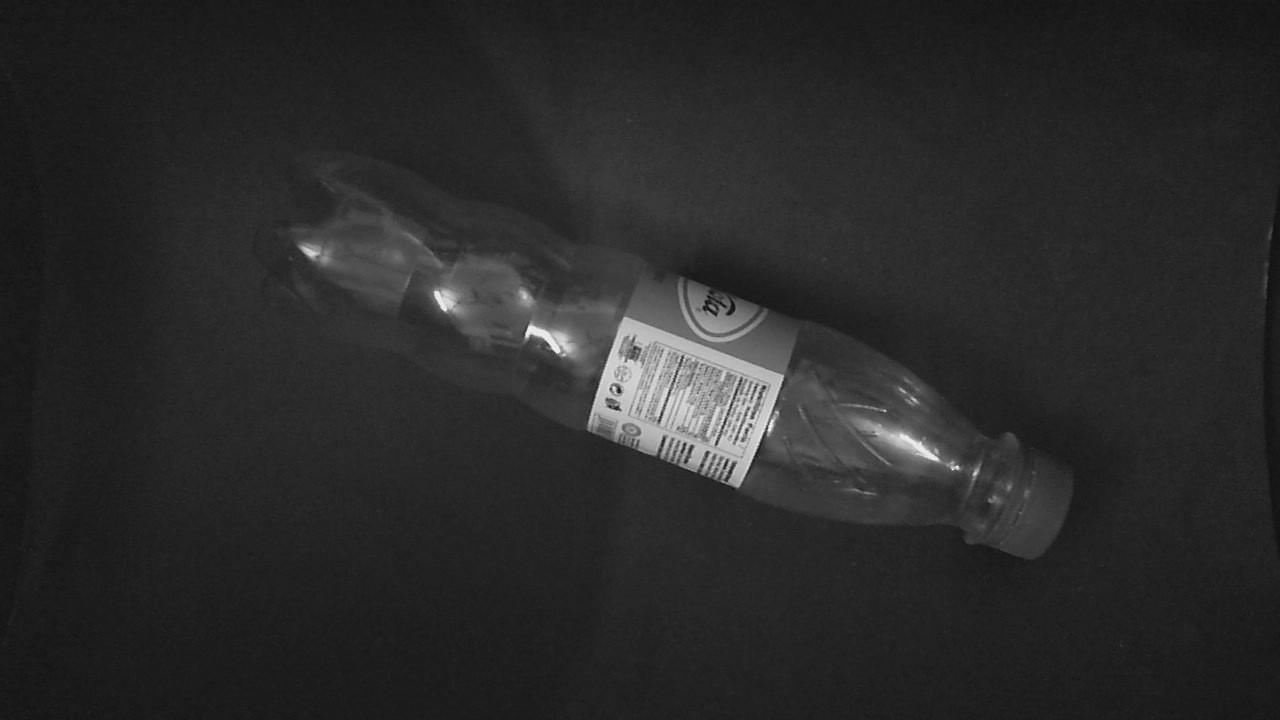bottle: (246, 119, 1080, 570)
